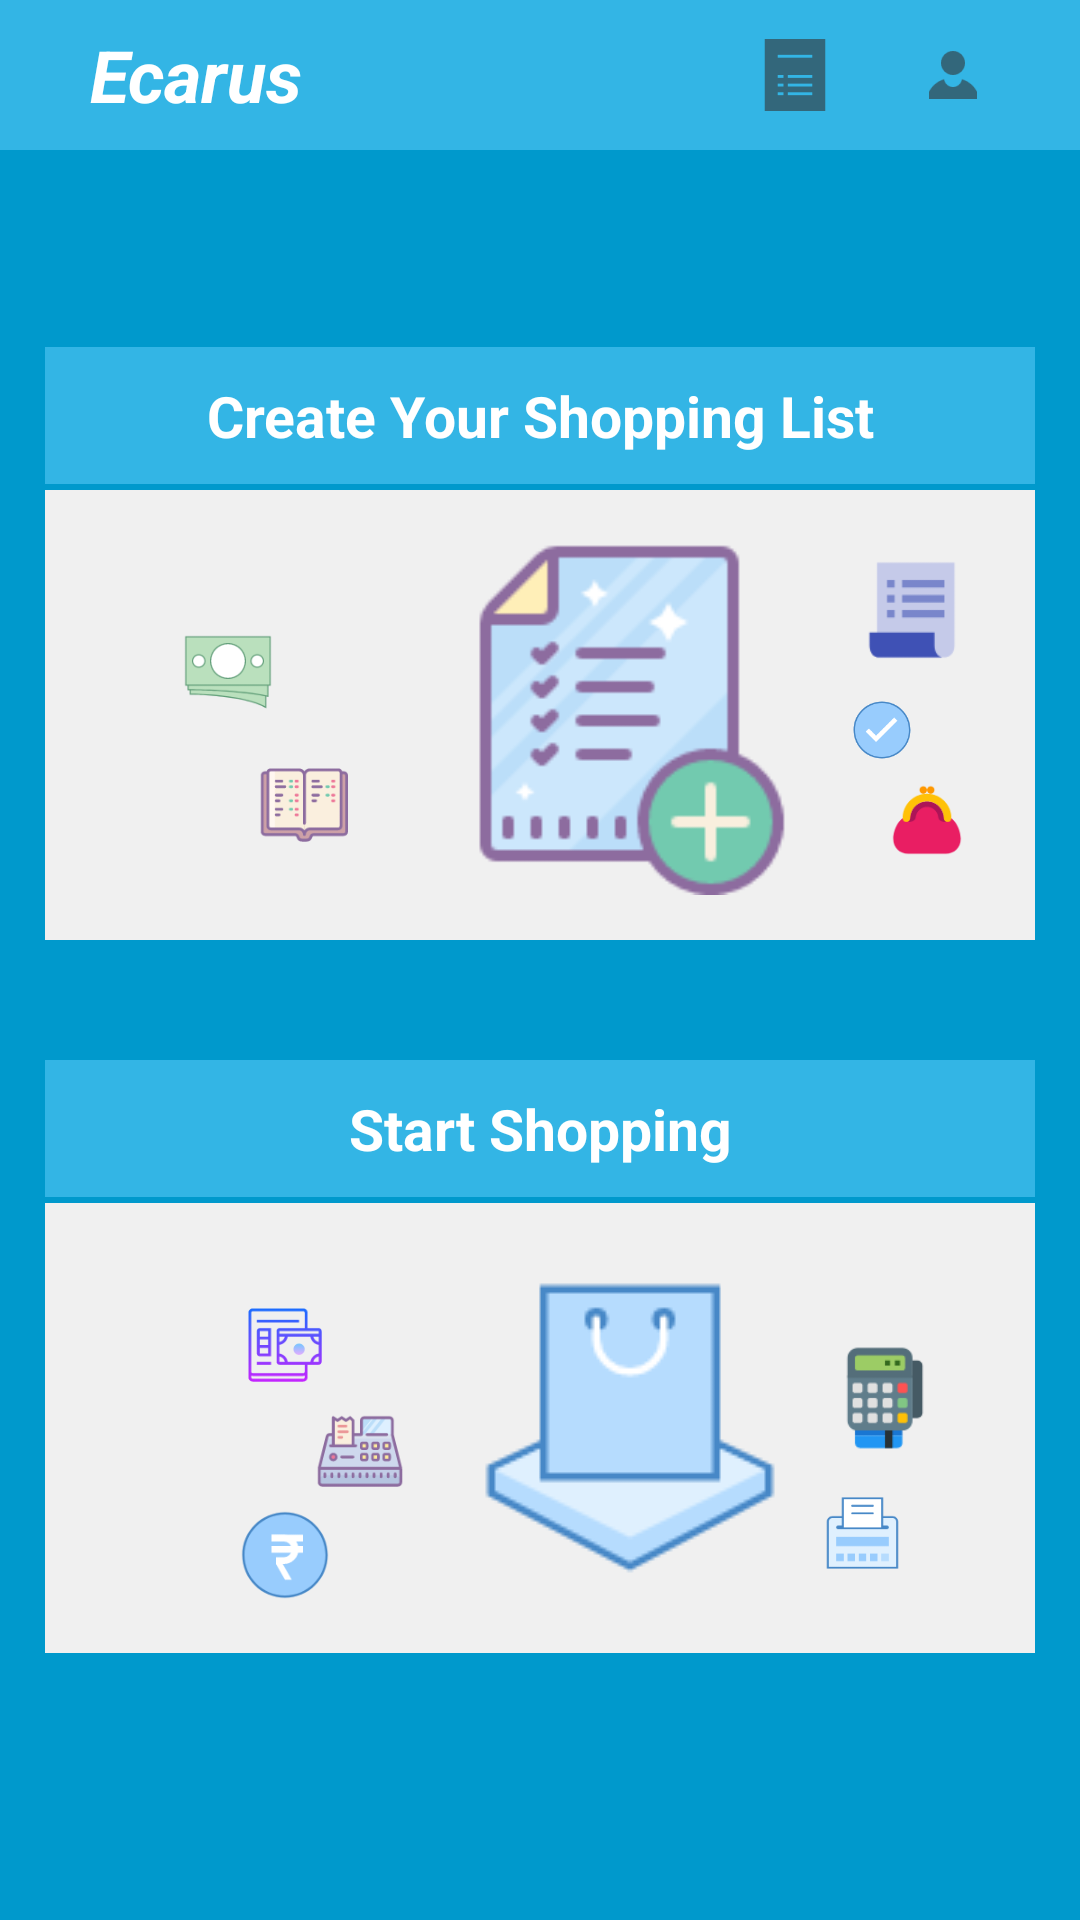

Named icons in this screenshot (1080px×1920px) and their bounding boxes, Rect(x1, y1, x2, y2):
cash register: Rect(317, 1416, 403, 1487)
checked: Rect(853, 701, 911, 759)
list mode: Rect(479, 545, 785, 895)
money: Rect(185, 636, 271, 708)
pos terminal: Rect(846, 1347, 923, 1449)
purse: Rect(893, 786, 961, 854)
receipt: Rect(826, 1497, 899, 1569)
rupee: Rect(242, 1512, 328, 1598)
saving book: Rect(260, 768, 348, 842)
shopping mode: Rect(485, 1283, 775, 1572)
view list: Rect(764, 39, 826, 111)
